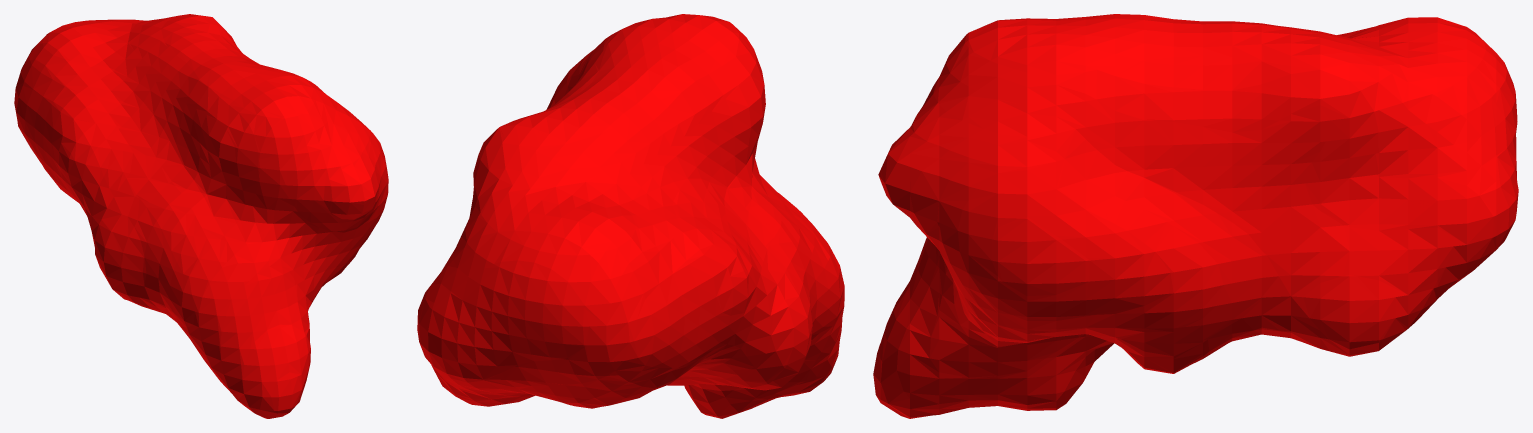
File: fumD_coarse.dae
The picture shows the model from 3 angles, left to right: view 1: azimuth 30°, elevation 25°; view 2: azimuth 150°, elevation 25°; view 3: azimuth 270°, elevation 25°; orthographic projection. The views are drawn at different scales.
Parts seen in each view (by area): view 1: fumD; view 2: fumD; view 3: fumD.
Part boxes in pixels (x1,y1,x2,y2): fumD: (14, 14, 388, 418); fumD: (417, 14, 844, 418); fumD: (873, 14, 1518, 418).
Bounding box in the file's own units: 26.75 × 31.41 × 43.69.
